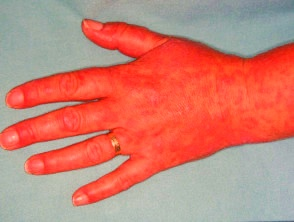SJS-TEN: (96, 33, 294, 185)
